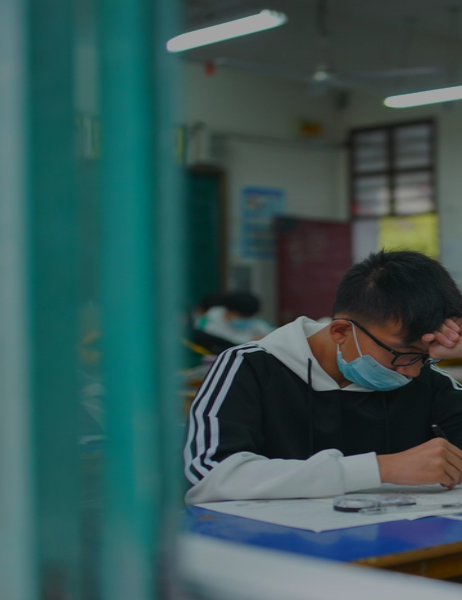mask_weared_incorrect: (338, 254, 451, 391)
